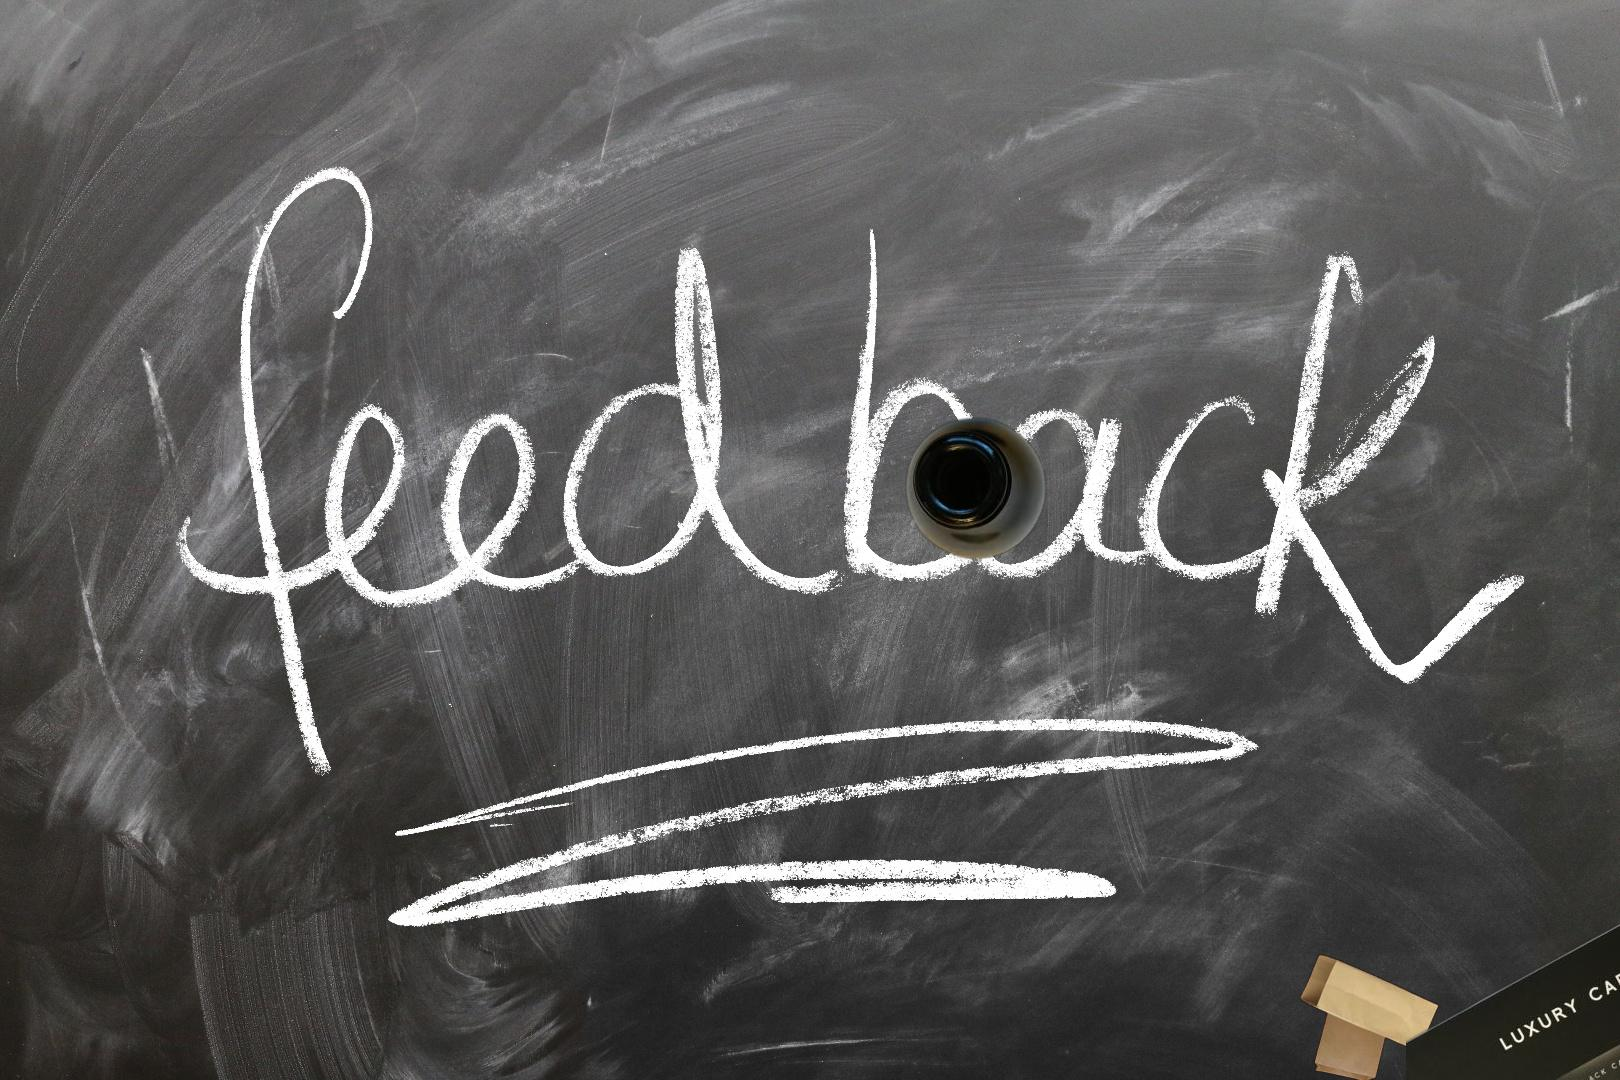glass: (902, 415, 1050, 562)
paper: (1405, 868, 1620, 1080)
paper-bag: (1298, 953, 1442, 1080)
